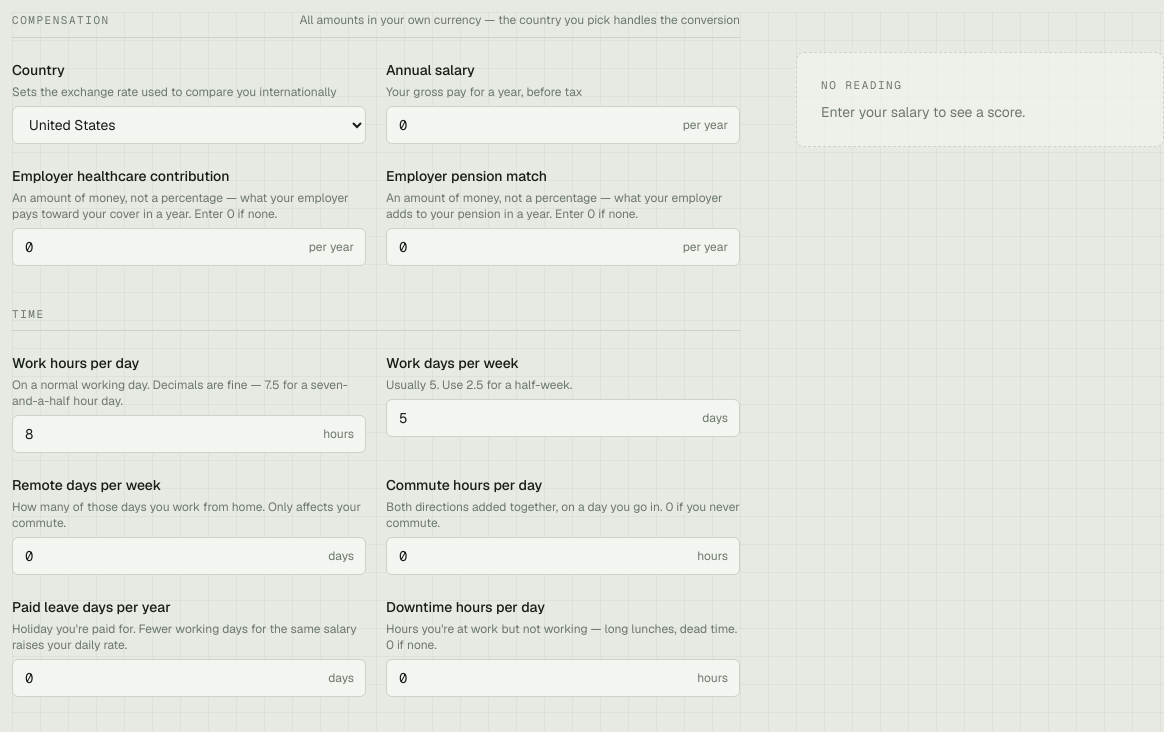
Calculator › shows a score once a salary is entered
Replace the text in the field labelled "Annual salary Your gross pay for a year, before tax per year" with "60000" at coordinates (563, 124), box x1=386 y1=106 x2=740 y2=144
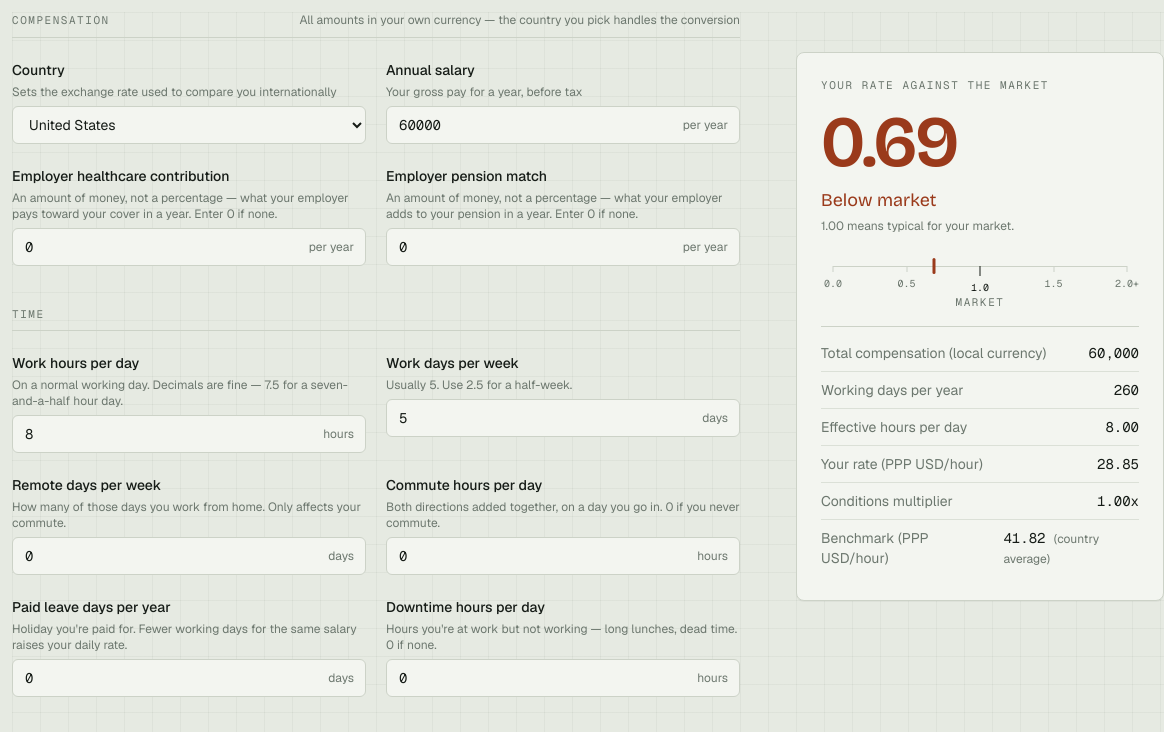
Result: the text with test id "score-value" reads "0.69" at x1=821 y1=98 x2=957 y2=184
